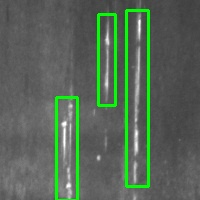scratches: (126, 10, 148, 186), (56, 97, 77, 200), (98, 14, 115, 105)
